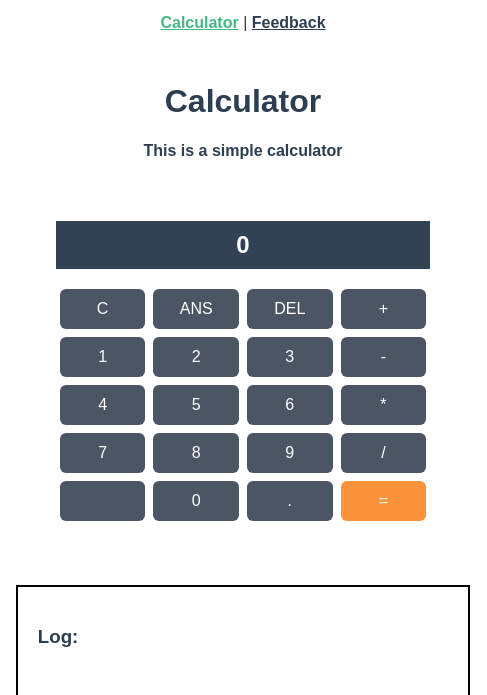
Scenario: Tests for running calculations › Display shows result of an expression
This screenshot has width=487, height=695.
Click the button "1".
click(103, 357)  # box 60,337 -> 146,377
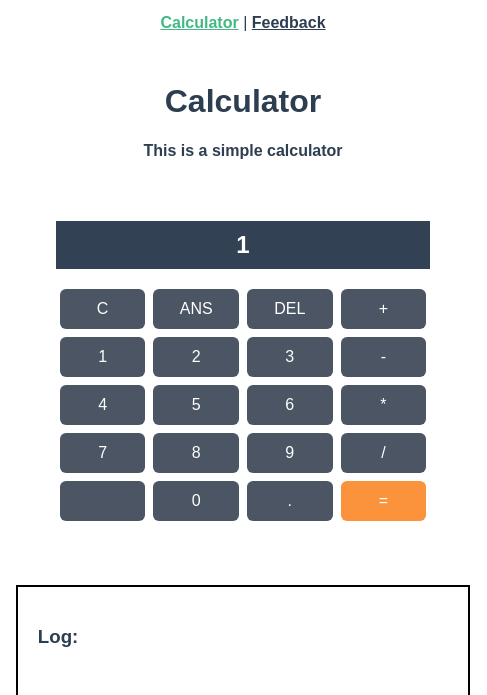
Click the button "+".
click(384, 309)  # box 341,289 -> 427,329
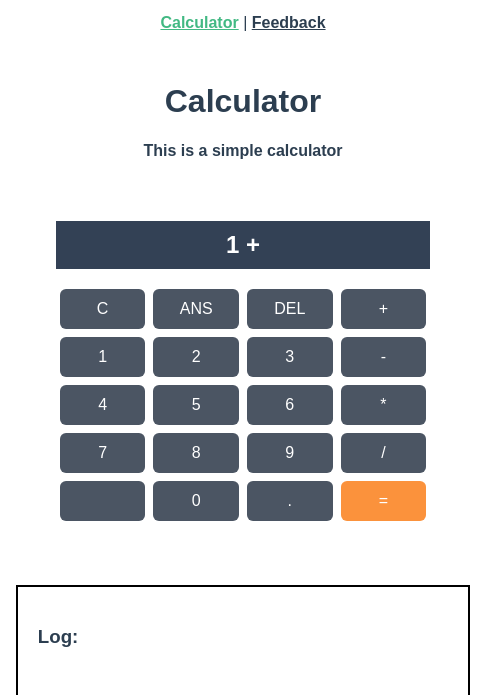
Click the button "2".
click(196, 357)  # box 153,337 -> 239,377
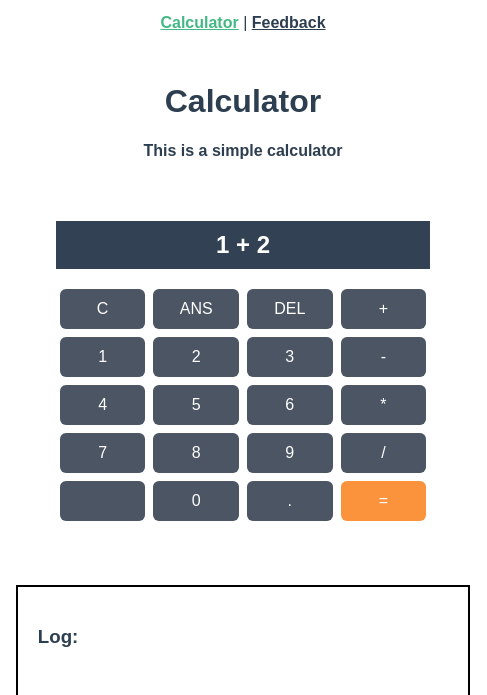
Click the button "=".
click(384, 501)  # box 341,481 -> 427,521
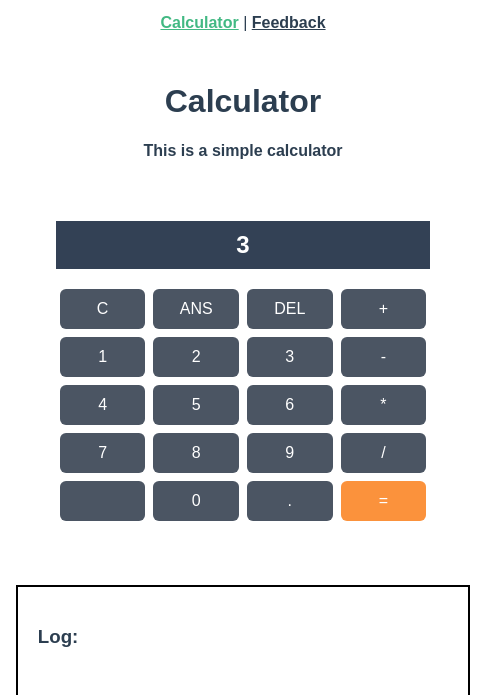
Expected: the text "3" is shown, 56,221 -> 430,269
